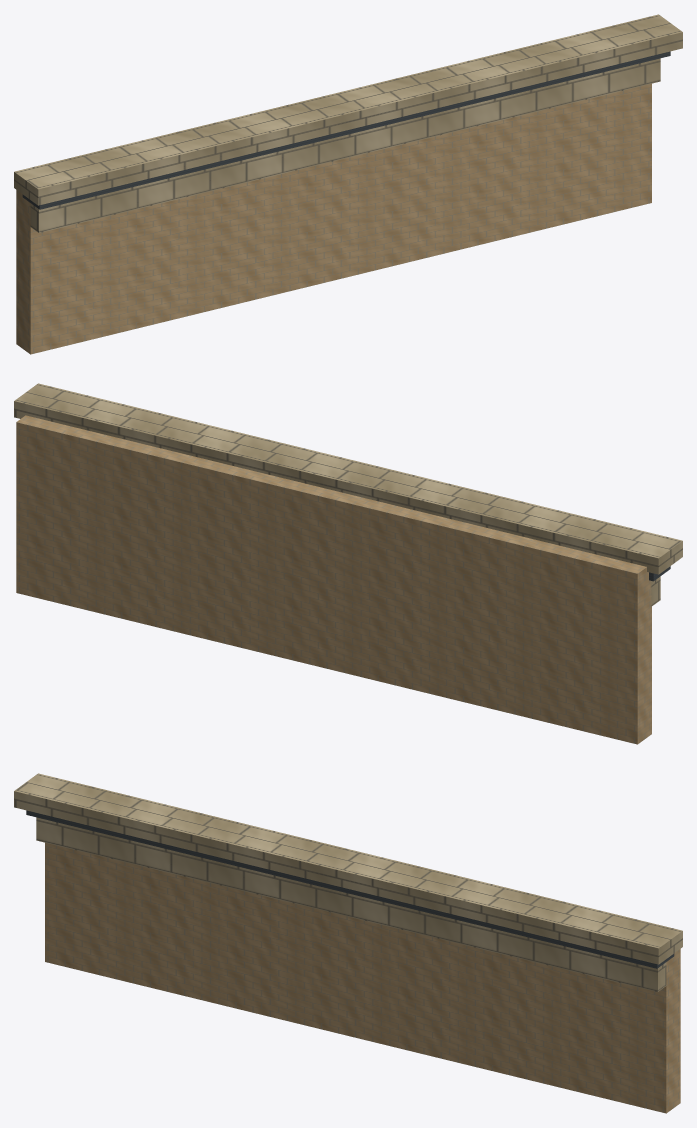
Rendered from facade-classical-cornice.lod1.gltf.
3 renders of one model, top to bottom at view 1: azimuth 30°, elevation 25°; view 2: azimuth 150°, elevation 25°; view 3: azimuth 330°, elevation 25°, orthographic.
Parts seen in each view (by area): view 1: facade-classical-cornice; view 2: facade-classical-cornice; view 3: facade-classical-cornice.
Boxes of the visible parts, bbox=[...] form: facade-classical-cornice: bbox=[14, 14, 682, 354]; facade-classical-cornice: bbox=[14, 383, 682, 744]; facade-classical-cornice: bbox=[14, 773, 682, 1113].
Size of the model in its own units: 8.3 by 2.24 by 0.75.
Materials: 3 (3 with a texture image).
